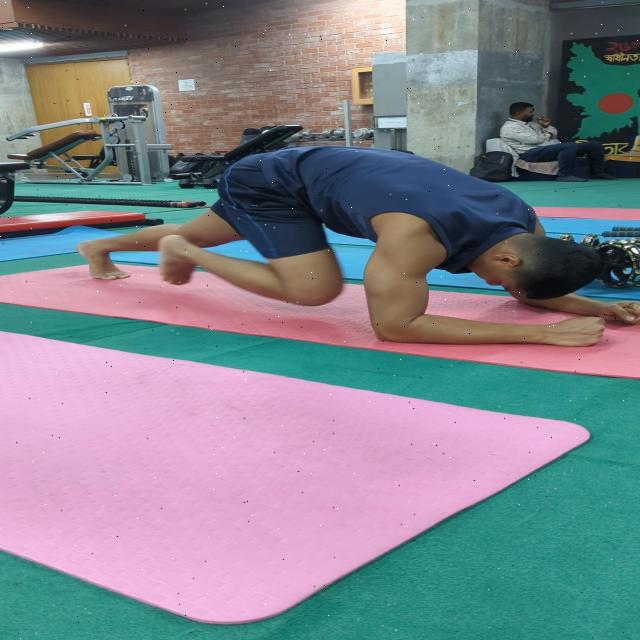Normal_MountainClimbers: (57, 134, 640, 382)
